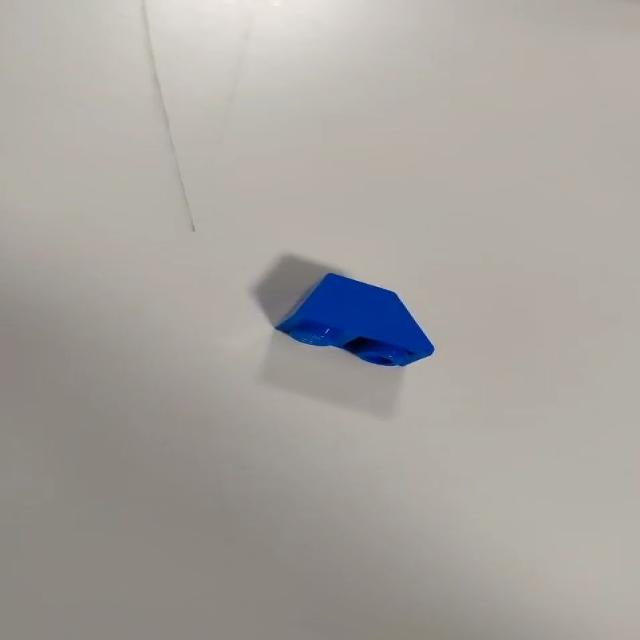X1x2x1: (267, 272, 443, 370)
